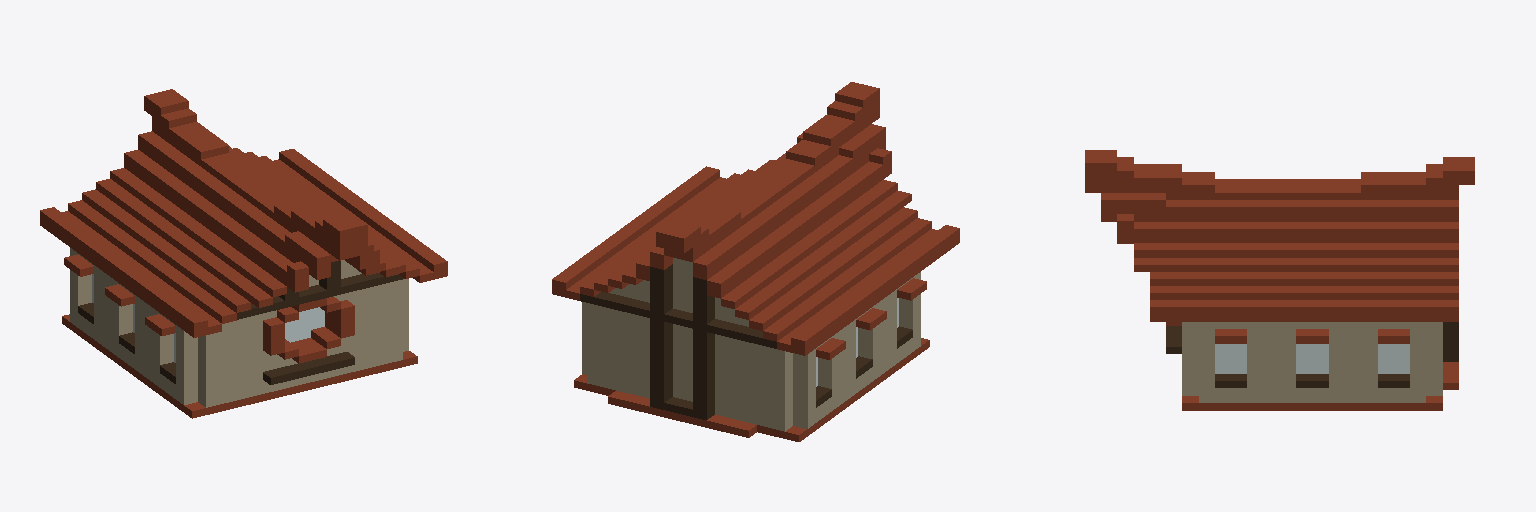
Rendered from RoofTopLayer_1 Colored.obj.
3 renders of one model, left to right at view 1: azimuth 30°, elevation 25°; view 2: azimuth 150°, elevation 25°; view 3: azimuth 270°, elevation 25°, orthographic.
Parts seen in each view (by area): view 1: RoofTopLayer_1 Colored; view 2: RoofTopLayer_1 Colored; view 3: RoofTopLayer_1 Colored.
Part boxes in pixels (bbox=[...]): RoofTopLayer_1 Colored: bbox=[40, 89, 447, 418]; RoofTopLayer_1 Colored: bbox=[552, 82, 959, 441]; RoofTopLayer_1 Colored: bbox=[1085, 150, 1474, 410].
Size of the model in its own units: 1.12 by 0.8438 by 1.5.